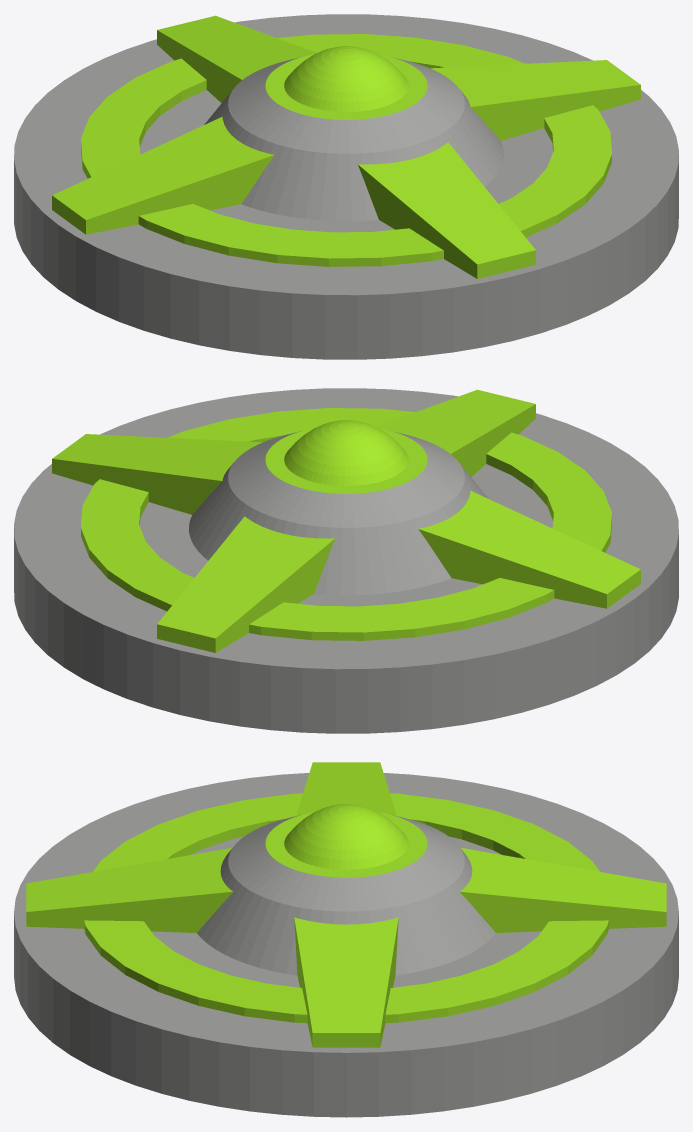
Rendered from Landmine.fbx.
3 views of the same model, one above another, from view 1: azimuth 30°, elevation 25°; view 2: azimuth 150°, elevation 25°; view 3: azimuth 270°, elevation 25° (orthographic).
Visible parts, largest first — view 1: Circle; view 2: Circle; view 3: Circle.
Boxes of the visible parts, x1,y1,x2,y2 form: Circle: (14,14,678,359); Circle: (14,388,678,733); Circle: (14,762,678,1117).
Size of the model in its own units: 200 by 55.49 by 200.
1 material, 1 textured.
